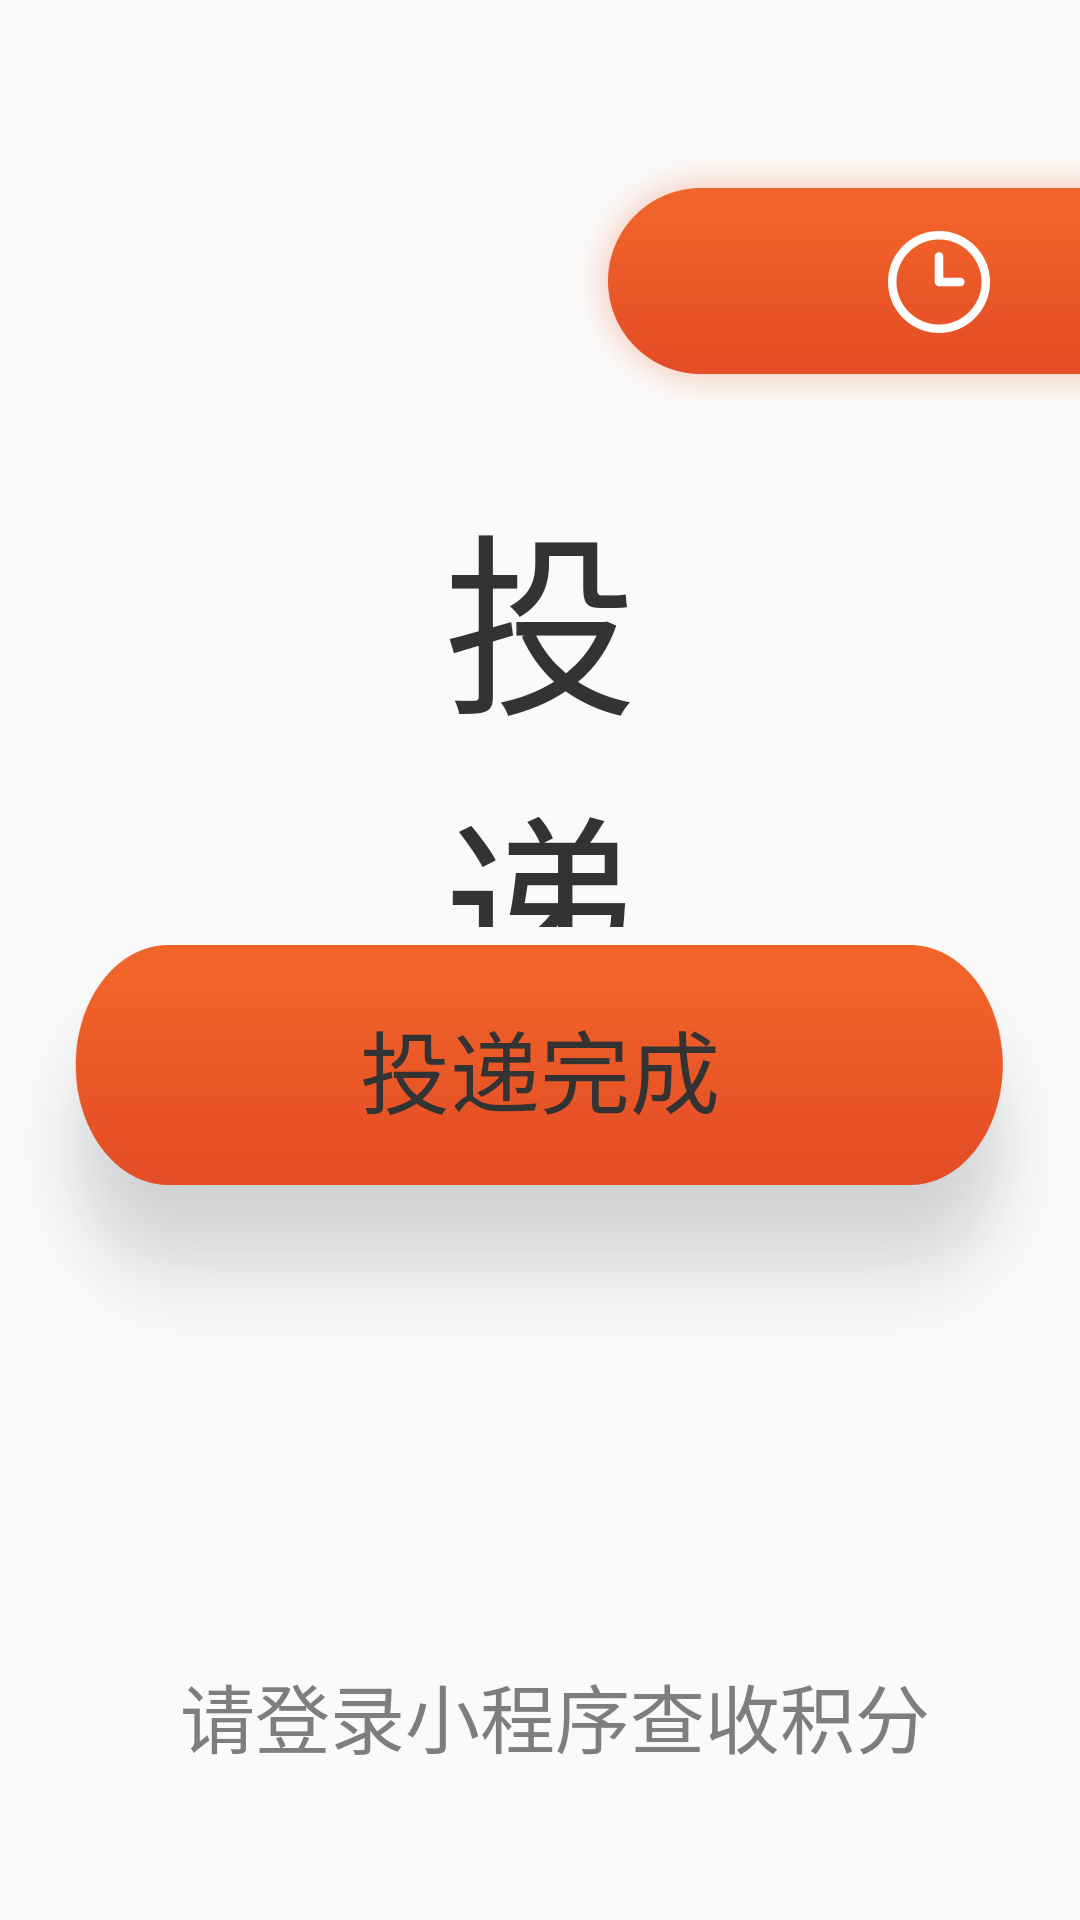

Screen size 1080 x 1920. Icon name, then its center in pixels as point (x, y):
timer whrite: point (939, 282)
